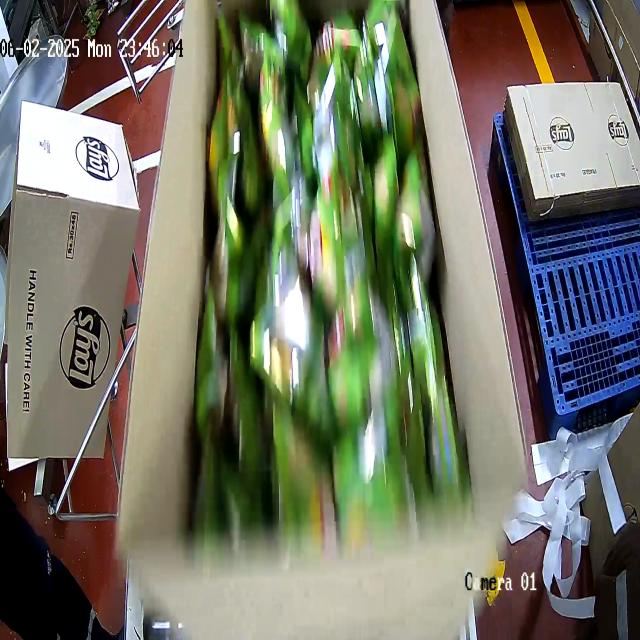YOGURT_HERB: (184, 0, 436, 525)
